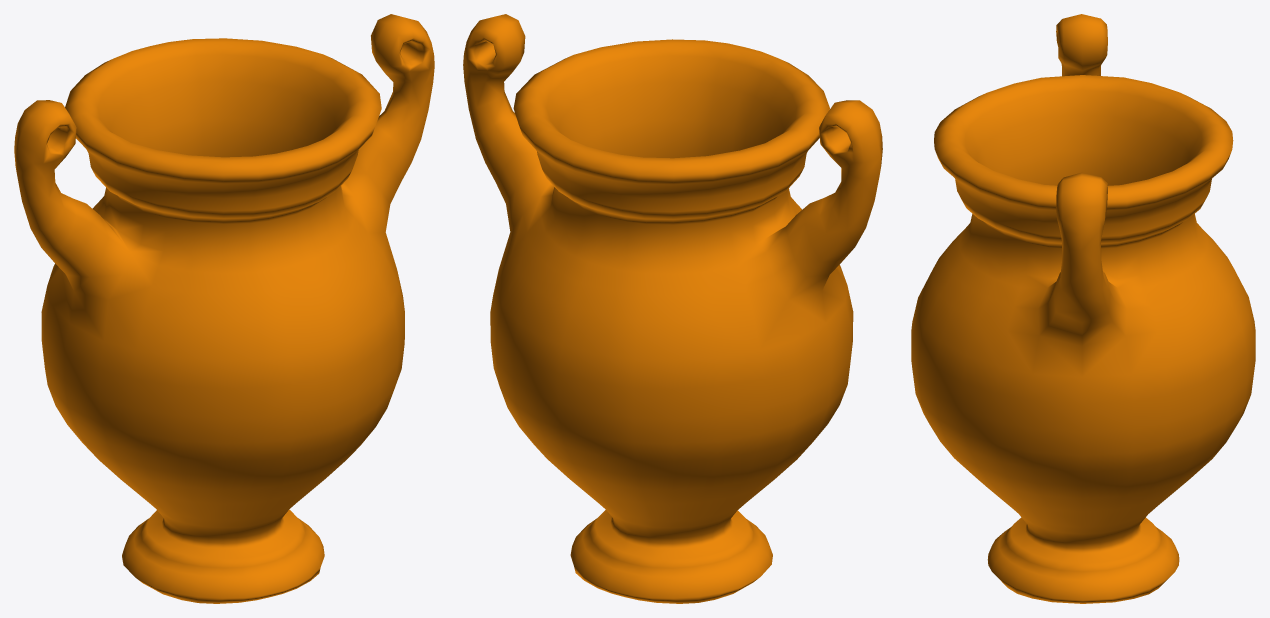
Rendered from vasija1.fbx.
The picture shows the model from 3 angles, left to right: view 1: azimuth 30°, elevation 25°; view 2: azimuth 150°, elevation 25°; view 3: azimuth 270°, elevation 25°; orthographic projection. The views are drawn at different scales.
Visible parts, largest first — view 1: Vasija.3; view 2: Vasija.3; view 3: Vasija.3.
Boxes of the visible parts, x1=… form: Vasija.3: x1=14, y1=14, x2=434, y2=603; Vasija.3: x1=463, y1=14, x2=882, y2=603; Vasija.3: x1=911, y1=14, x2=1255, y2=603.
Size of the model in its own units: 0.6427 by 0.7455 by 0.4924.
